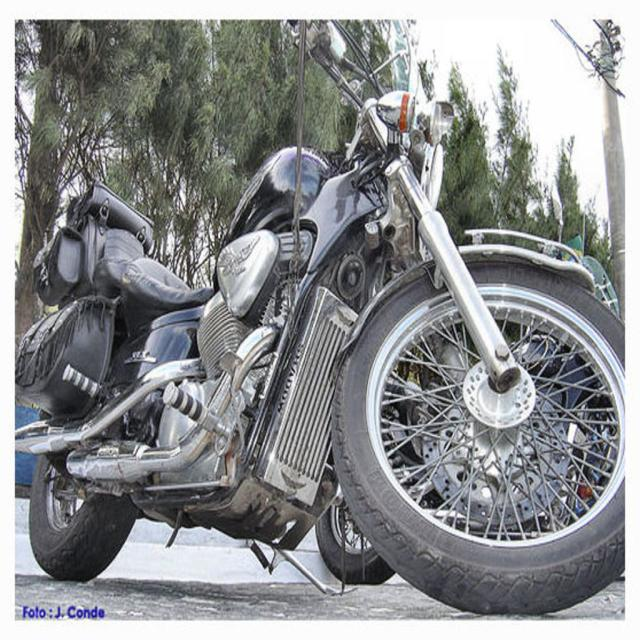Motorbikes: (29, 81, 625, 620)
